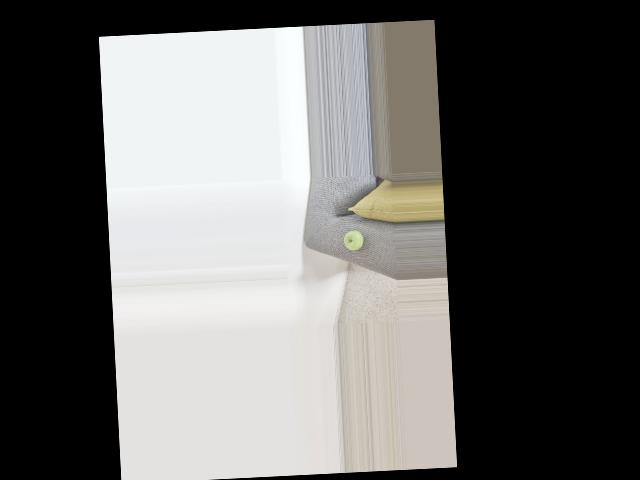apple: (342, 228, 366, 250)
